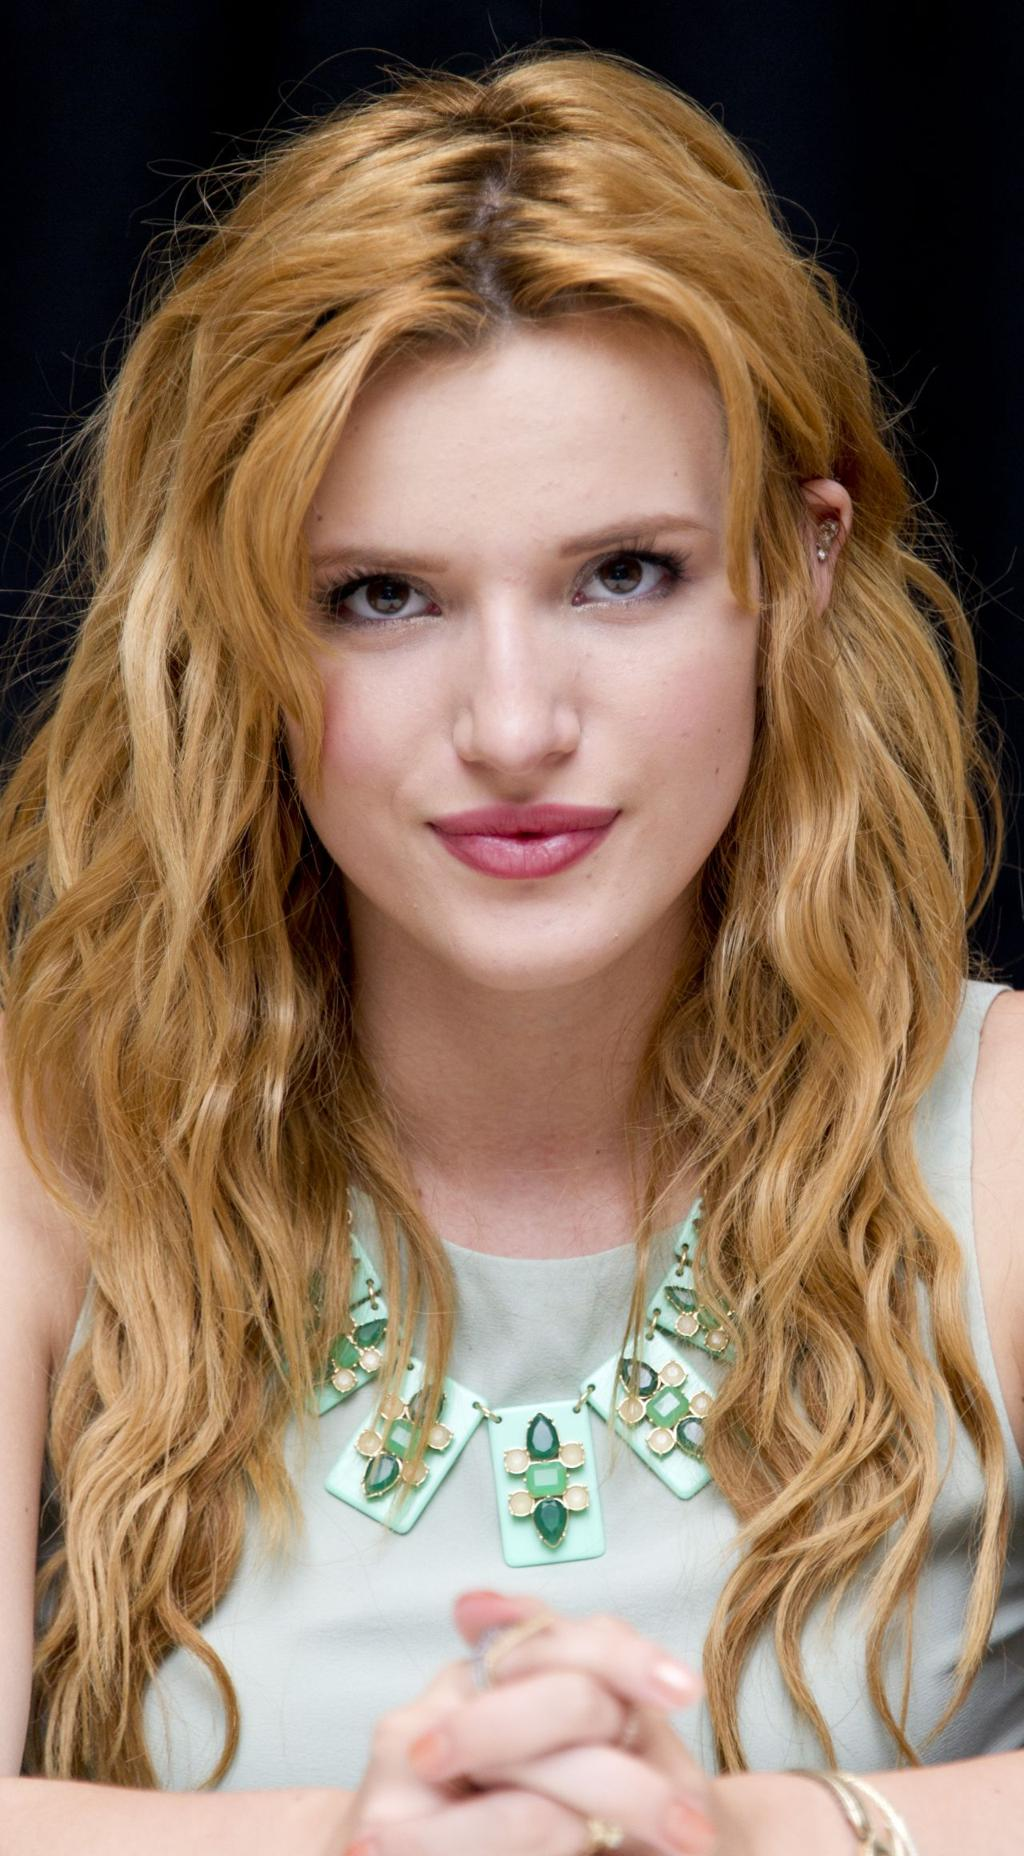face: (283, 338, 762, 992)
